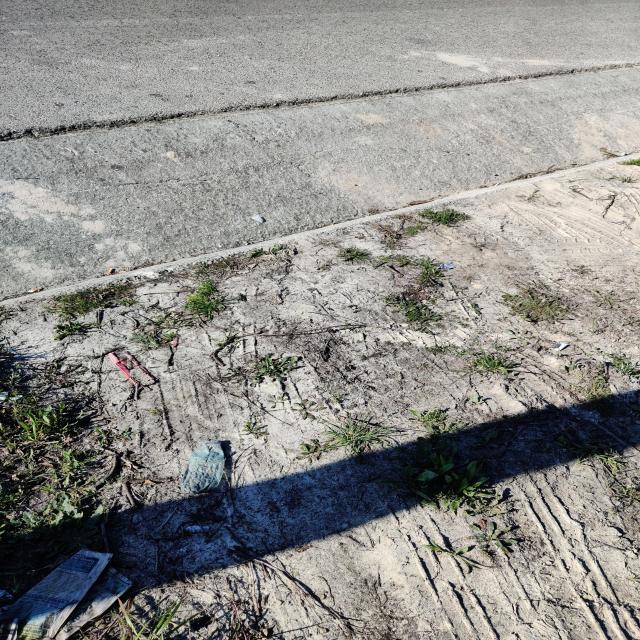litter: (173, 418, 239, 510)
